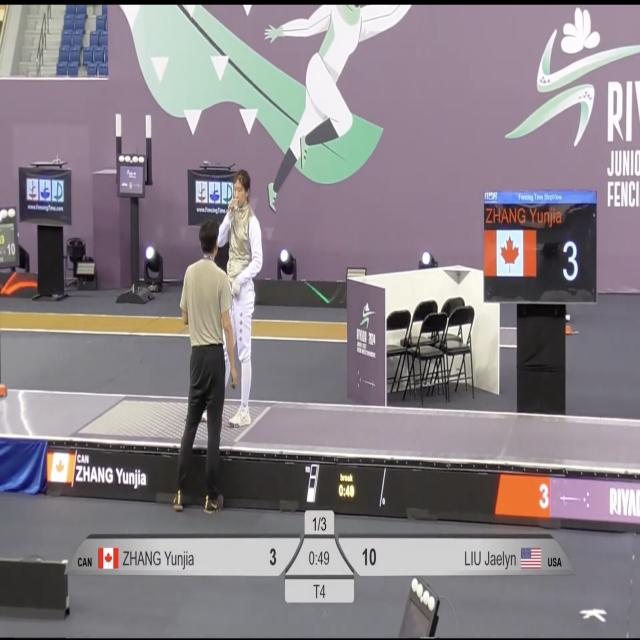fencer: (233, 170, 262, 437)
overlayLeft: (69, 535, 257, 578)
overlayRight: (392, 537, 576, 574)
scoreLeft: (261, 538, 301, 576)
scoreRight: (334, 537, 386, 577)
